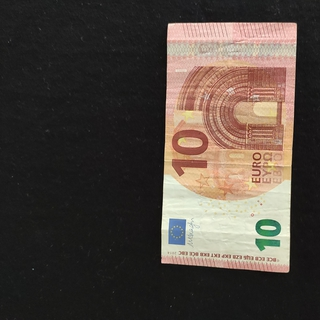10EUROFront: (160, 21, 297, 273)
